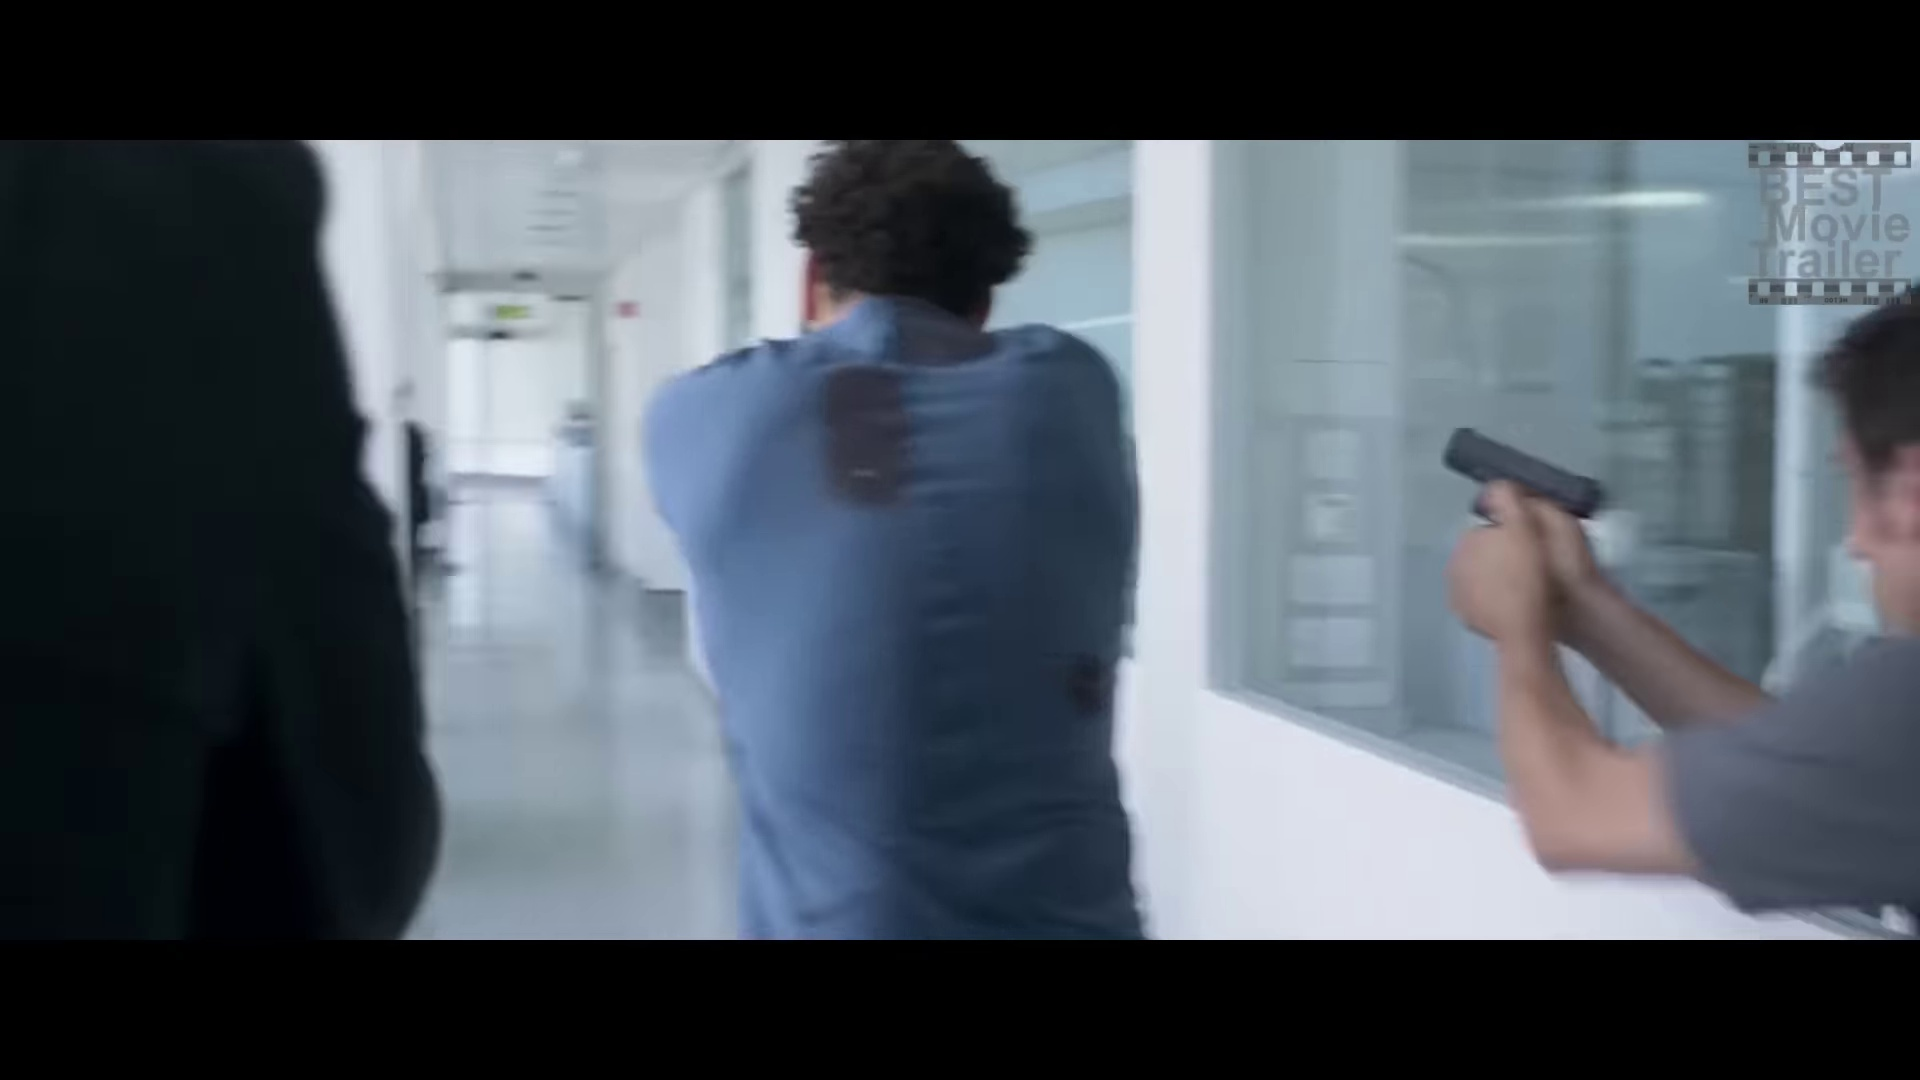gun: (1441, 418, 1607, 547)
p_w_gun: (1433, 274, 1920, 939)
p_wo_gun_not_carrying_normal_pose: (638, 137, 1158, 944)
